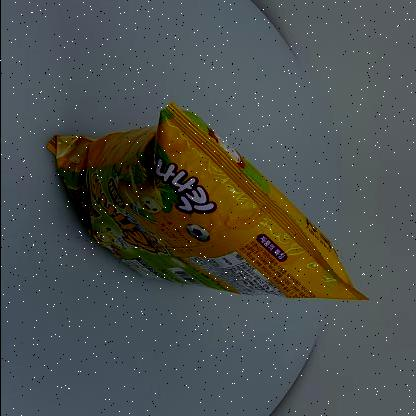Others: (42, 97, 374, 315)
